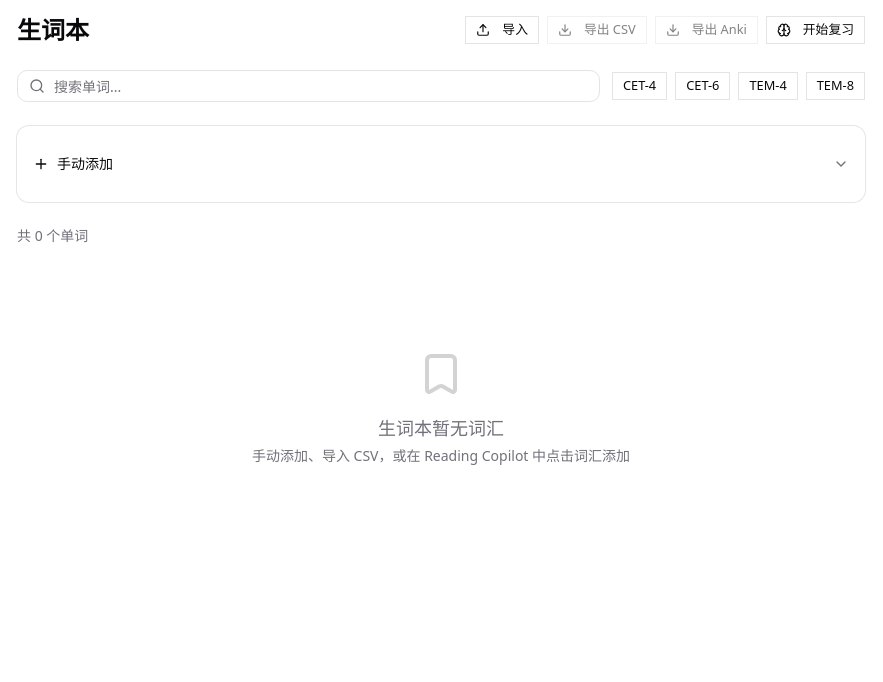
Scenario: VocabularyPage › toggles manual add form open/closed
Expected: the field with placeholder "输入英文单词" is not shown
Click to open
Click the text "手动添加" at [85, 164], box [33, 154, 849, 174]
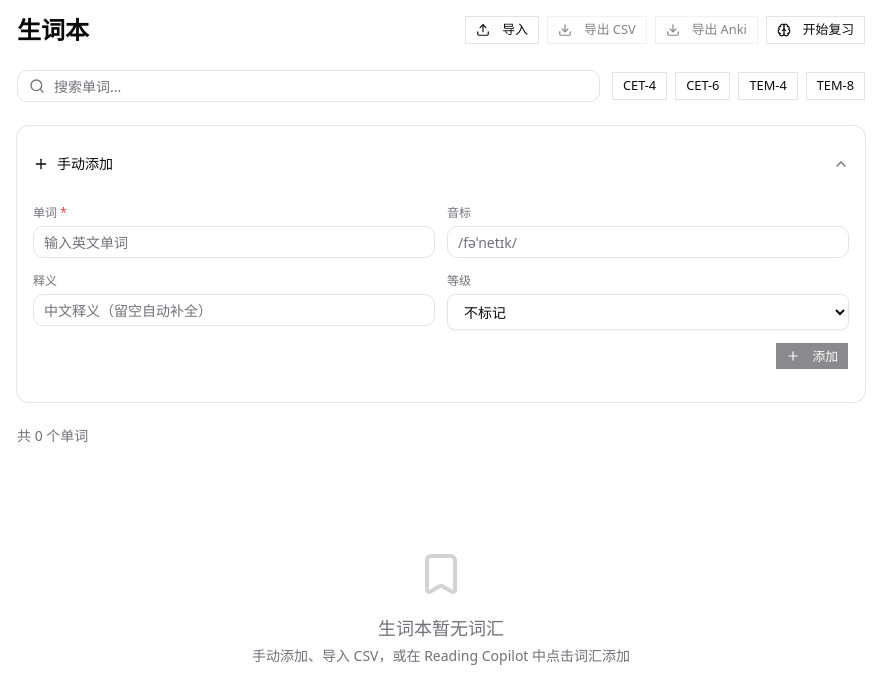
Result: the field with placeholder "输入英文单词" is shown at [33, 226, 435, 258]
Result: the field with placeholder "/fəˈnetɪk/" is shown at [447, 226, 849, 258]
Click again to close
Click the text "手动添加" at [85, 164], box [33, 154, 849, 174]
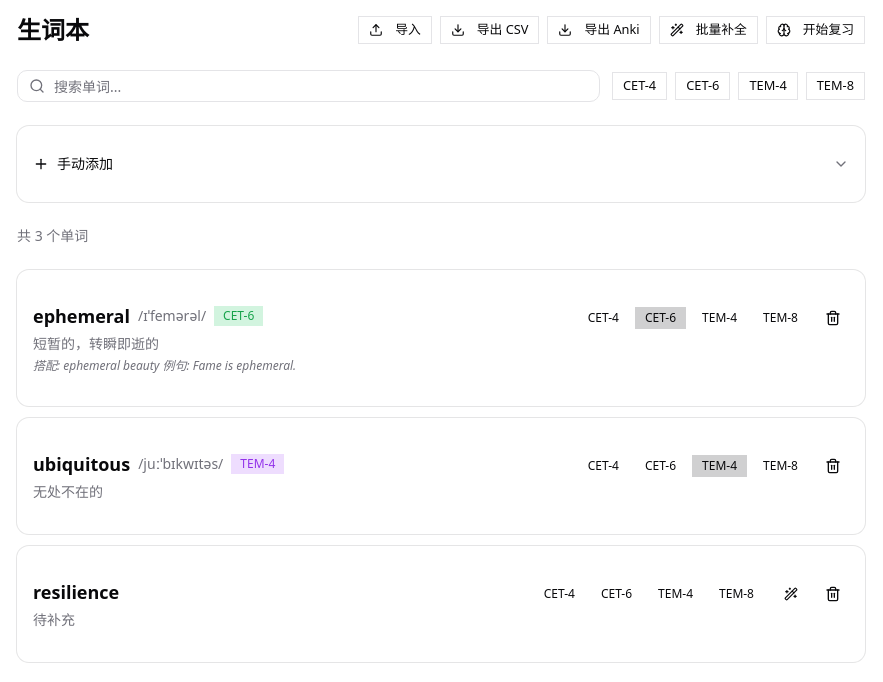
Result: the field with placeholder "输入英文单词" is gone
